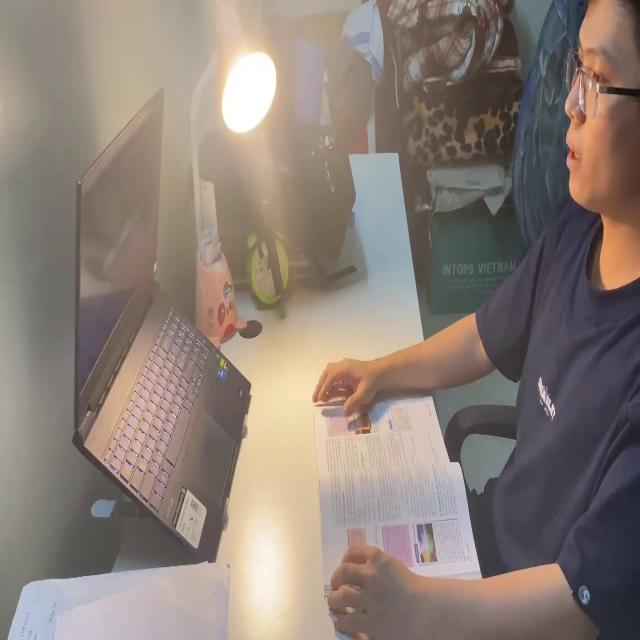book: (314, 376, 483, 625), (0, 557, 234, 640)
laptop: (70, 78, 250, 557)
student: (315, 2, 640, 640)
